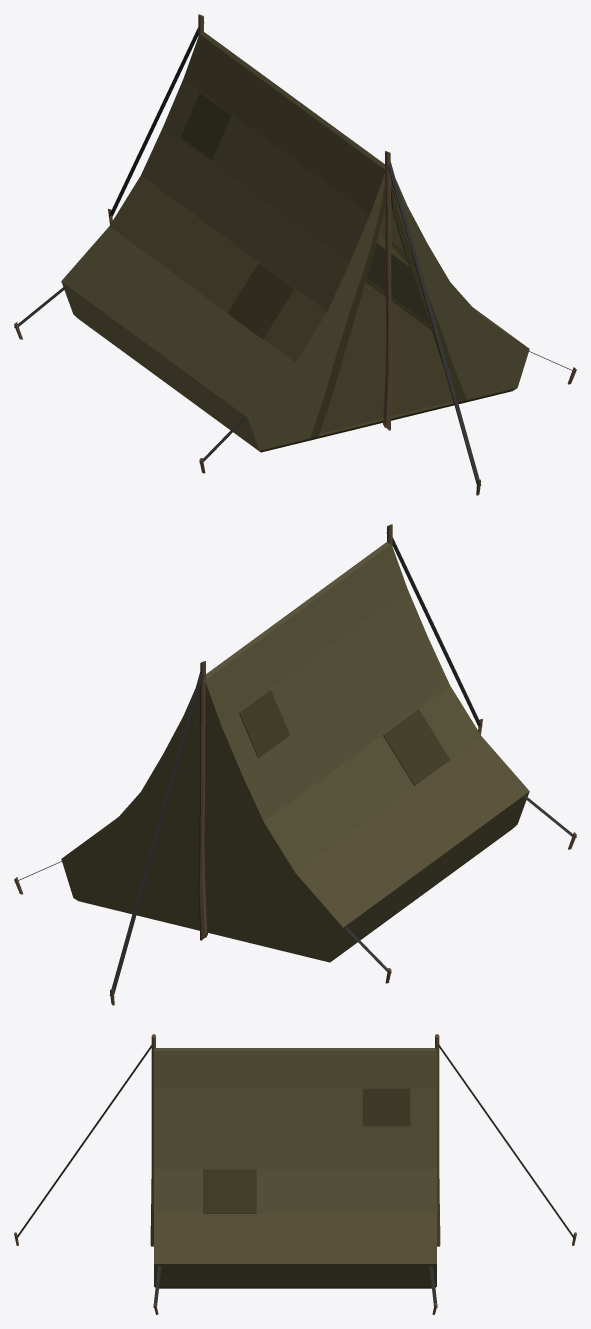
Rendered from village.glb.
3 views of the same model, one above another, from view 1: azimuth 30°, elevation 25°; view 2: azimuth 150°, elevation 25°; view 3: azimuth 270°, elevation 25° (orthographic). The views are drawn at different scales.
Visible parts, largest first — view 1: Tent; view 2: Tent; view 3: Tent.
Part boxes in pixels (left/top/right/bottom): Tent: left=14, top=14, right=576, bottom=495; Tent: left=14, top=524, right=576, bottom=1005; Tent: left=14, top=1034, right=576, bottom=1314.
Bounding box in the file's own units: 14.58 × 12.23 × 24.87.
